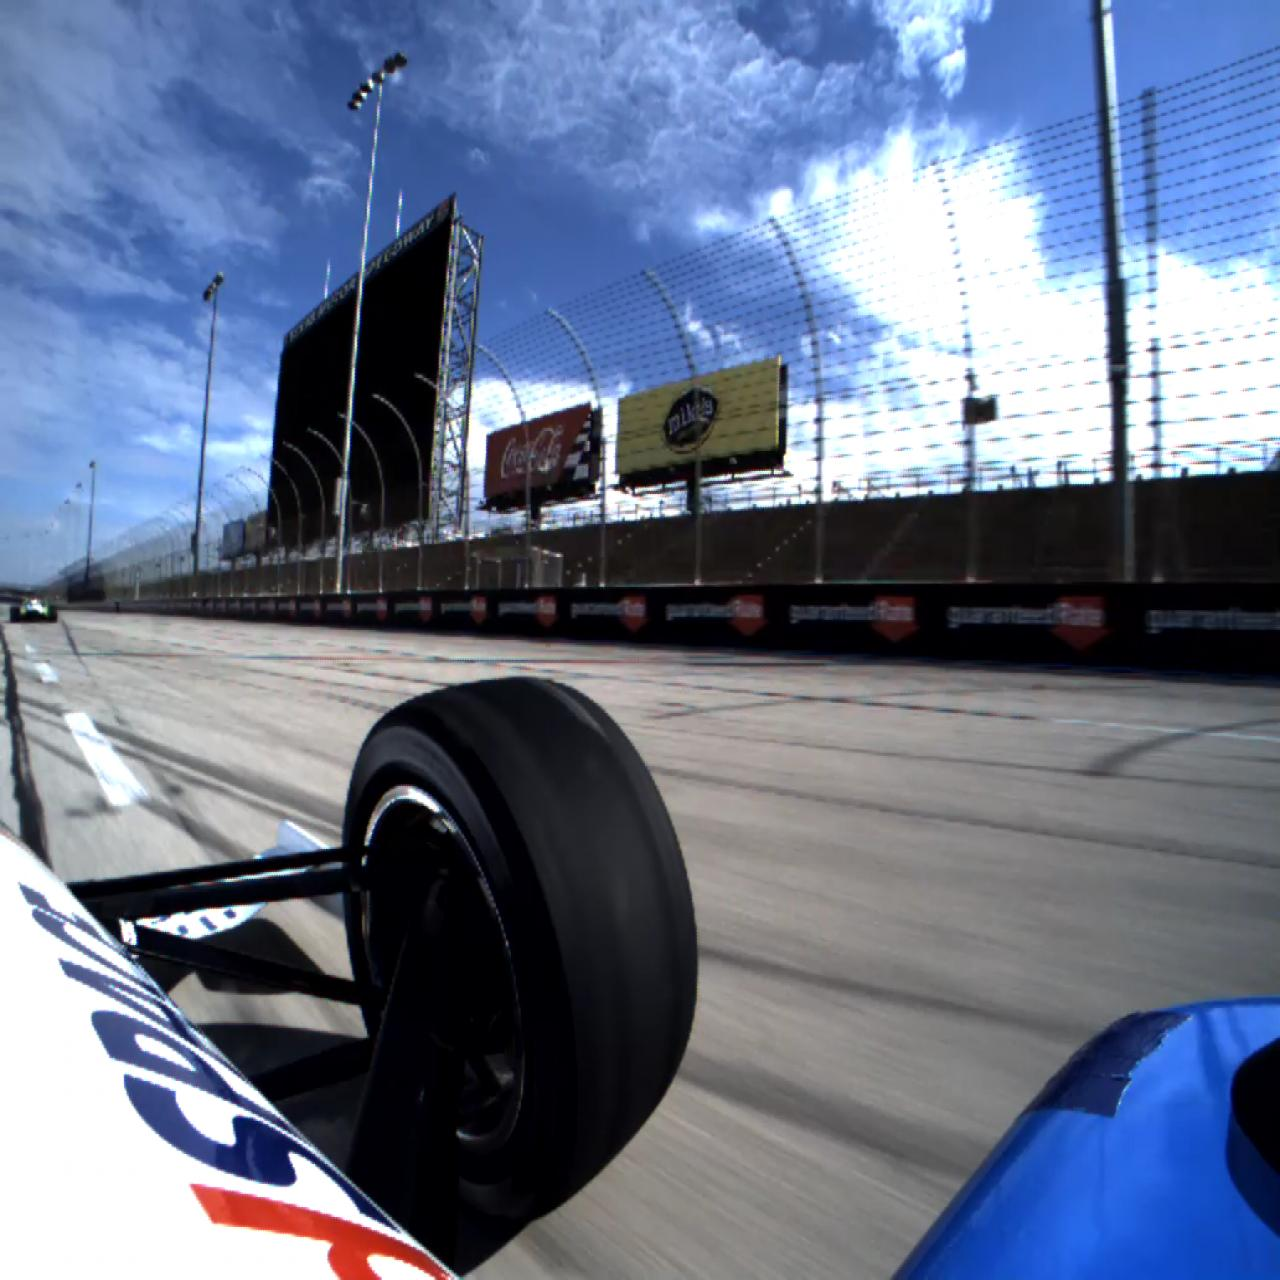AV: (9, 593, 59, 624)
Wheel: (345, 673, 699, 1198), (48, 606, 57, 624), (11, 605, 20, 621)
